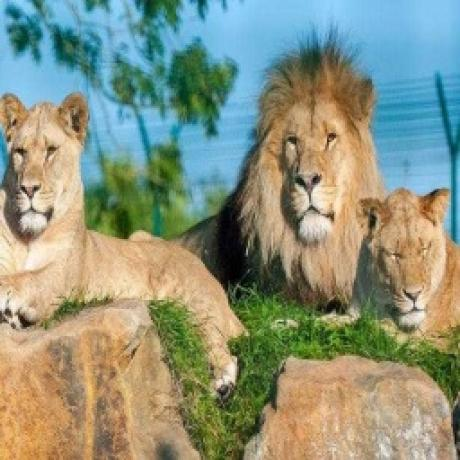Lion: (0, 88, 248, 394), (175, 37, 382, 314), (350, 184, 460, 351)
